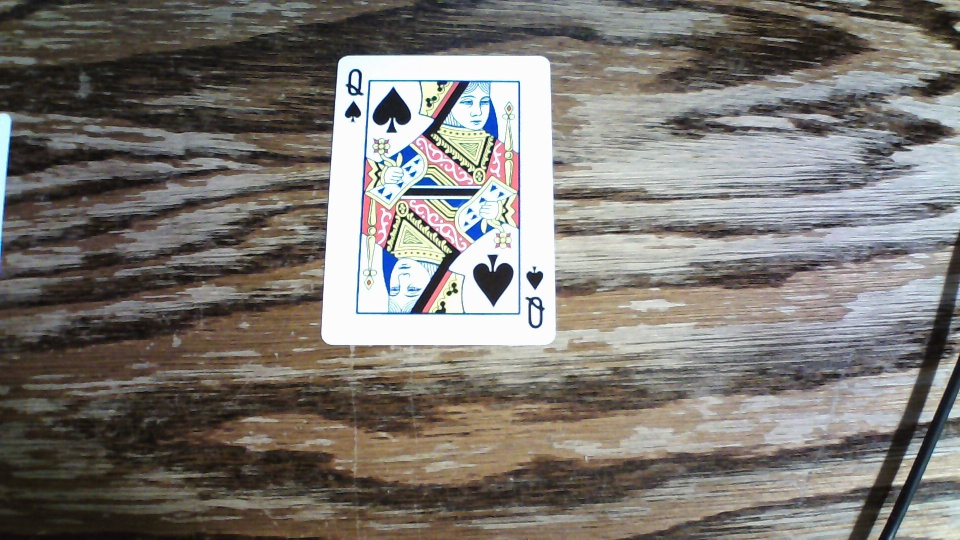queen: (319, 54, 556, 346)
